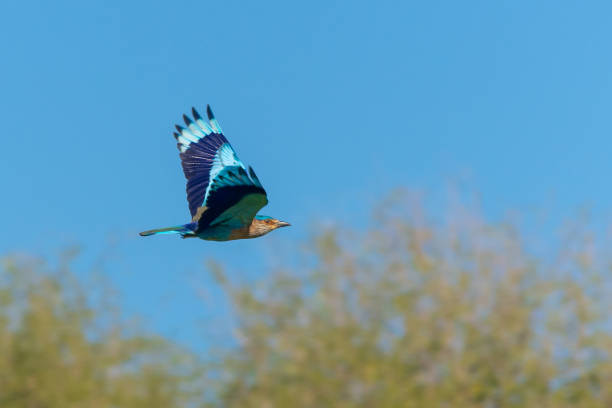Bird: (134, 102, 295, 244)
